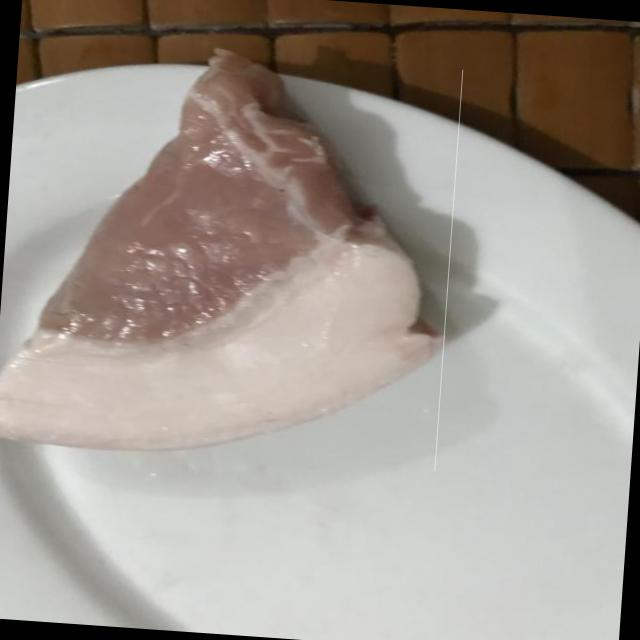chicken: (0, 38, 463, 470)
